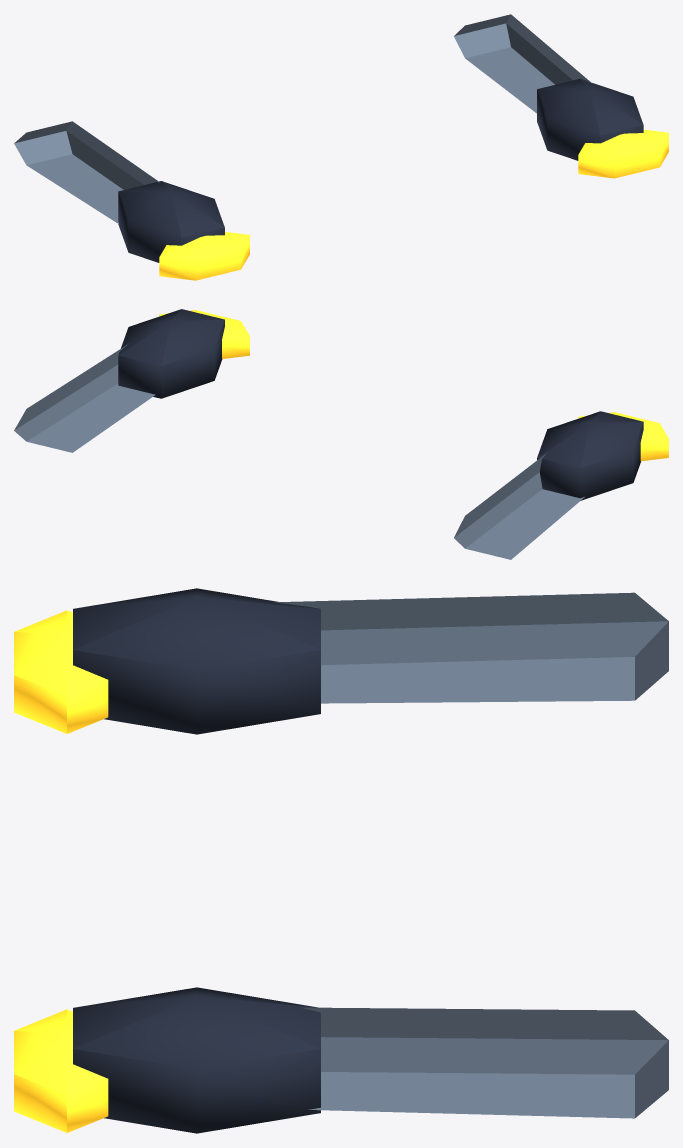
Rendered from bf_elite_twin_cannons.glb.
3 views of the same model, one above another, from view 1: azimuth 30°, elevation 25°; view 2: azimuth 150°, elevation 25°; view 3: azimuth 270°, elevation 25° (orthographic). The views are drawn at different scales.
Parts seen in each view (by area): view 1: ELITE // HORNET CLUBS; view 2: ELITE // HORNET CLUBS; view 3: ELITE // HORNET CLUBS.
Boxes of the visible parts, left/top/right/bottom form: ELITE // HORNET CLUBS: left=14, top=14, right=668, bottom=280; ELITE // HORNET CLUBS: left=14, top=309, right=668, bottom=559; ELITE // HORNET CLUBS: left=14, top=588, right=668, bottom=1133.
Bounding box in the file's own units: 0.8272 × 0.102 × 0.4718.
